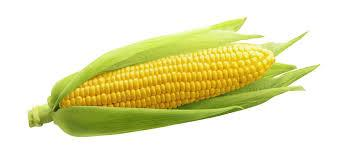non-mango: (56, 42, 275, 109)
